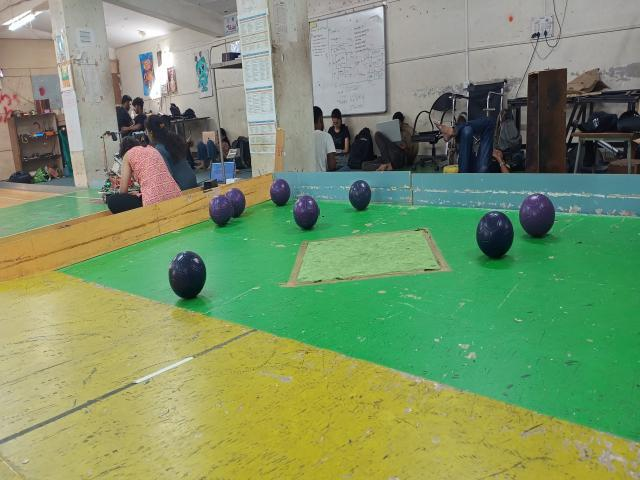jambhalya: (520, 193, 555, 237), (210, 188, 245, 227), (294, 195, 319, 230), (210, 195, 233, 226), (270, 178, 290, 207)
kaalyya: (476, 212, 514, 258), (169, 252, 206, 298), (349, 180, 371, 210)
